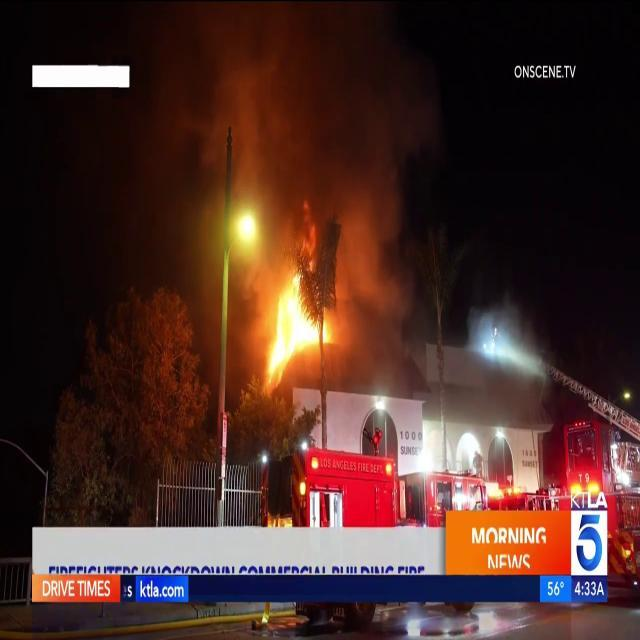Fire: (260, 268, 338, 378)
